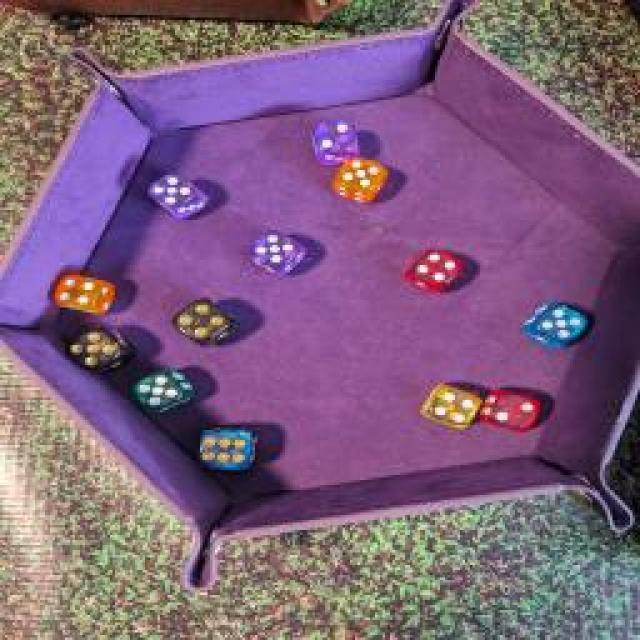dice_2: (300, 118, 365, 168), (480, 389, 545, 436)
dice_4: (167, 296, 245, 349), (414, 378, 481, 432), (400, 245, 468, 295), (52, 274, 118, 316)
dice_5: (141, 171, 214, 224), (520, 301, 592, 349), (129, 365, 199, 413), (326, 154, 389, 206), (65, 323, 127, 375), (244, 228, 306, 272)
dice_6: (190, 424, 260, 476)
